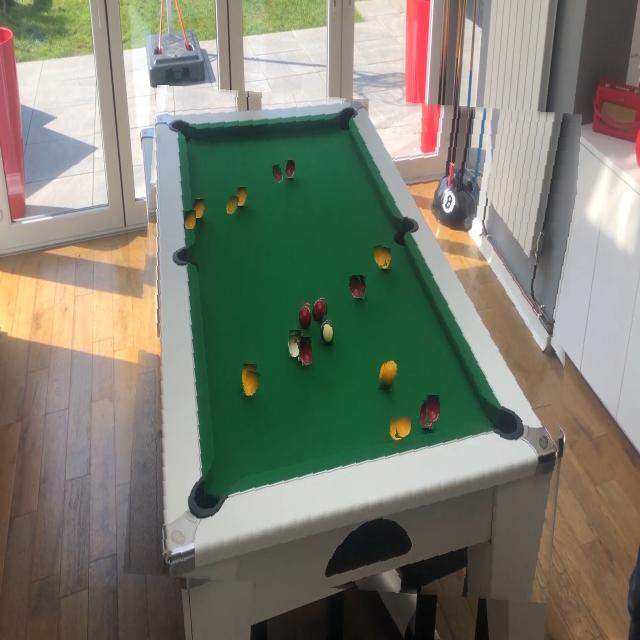Ball: (381, 360, 398, 388), (244, 371, 260, 396), (426, 395, 440, 423), (299, 340, 313, 365), (298, 305, 312, 329), (396, 416, 411, 438), (349, 275, 363, 298), (372, 245, 386, 268), (321, 322, 334, 346), (312, 299, 326, 321), (289, 334, 301, 357), (225, 195, 238, 214), (184, 210, 196, 229), (272, 165, 284, 183)
Billiard table: (131, 92, 574, 596)
